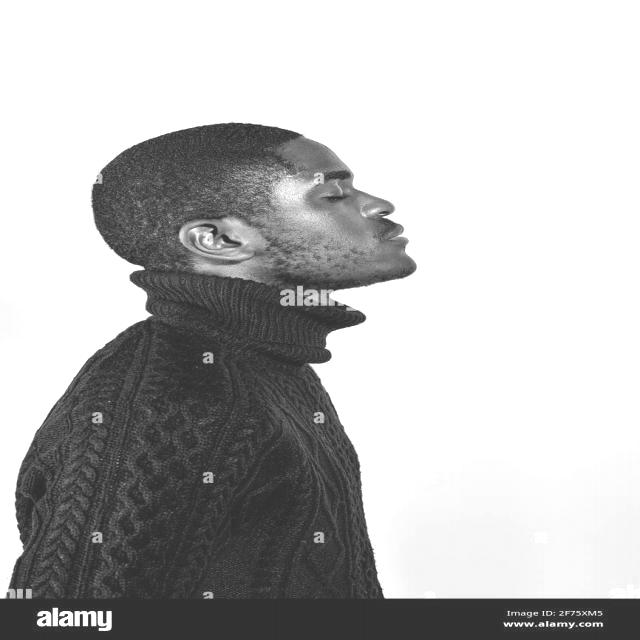real: (87, 112, 421, 291), (314, 170, 360, 206)
